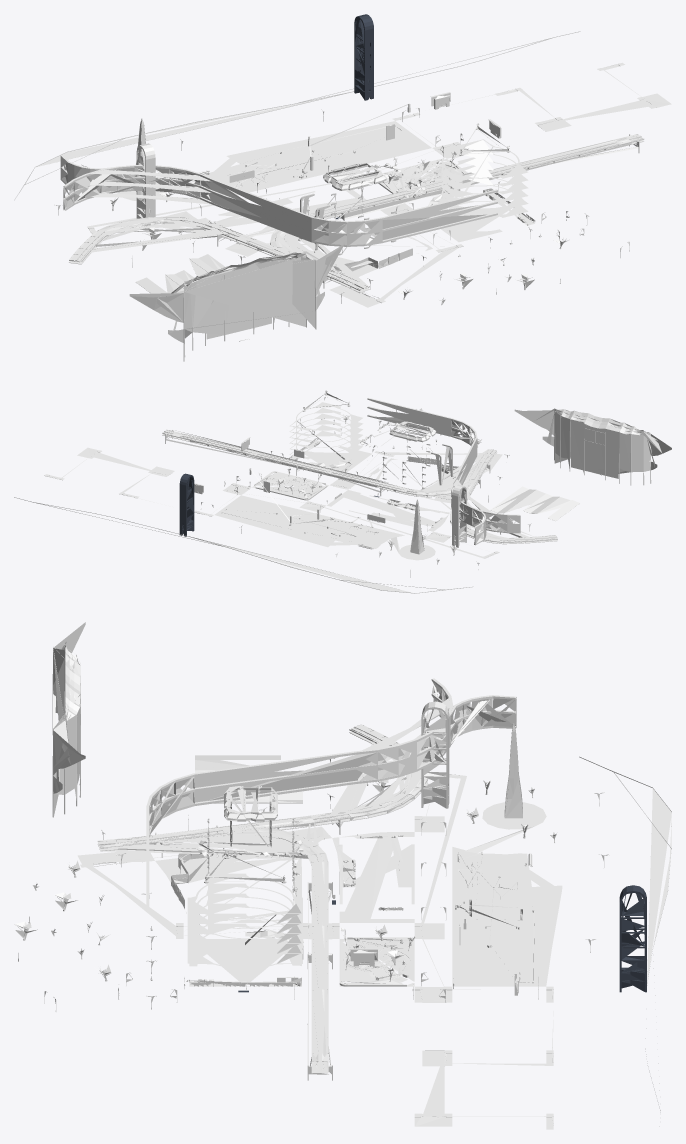
File: street_island2_05.glb
3 renders of one model, top to bottom at view 1: azimuth 30°, elevation 25°; view 2: azimuth 150°, elevation 25°; view 3: azimuth 270°, elevation 25°, orthographic. The views are drawn at different scales.
Visible parts, largest first — view 1: seg_960, seg_424, seg_933, seg_450, seg_366, seg_399, seg_1015, seg_827, seg_788, seg_962, seg_395, seg_820 (+12 smaller); view 2: seg_933, seg_424, seg_960, seg_366, seg_399, seg_448, seg_1015, seg_450, seg_364, seg_788, seg_820, seg_428 (+14 smaller); view 3: seg_424, seg_960, seg_366, seg_399, seg_364, seg_818, seg_933, seg_428, seg_829, seg_1015, seg_962, seg_395 (+11 smaller).
Part boxes in pixels (left/top/right/bottom): seg_960: left=60, top=155, right=497, bottom=246; seg_424: left=117, top=121, right=431, bottom=200; seg_933: left=129, top=242, right=344, bottom=342; seg_450: left=183, top=255, right=316, bottom=361; seg_366: left=441, top=139, right=534, bottom=242; seg_399: left=87, top=62, right=671, bottom=234; seg_1015: left=14, top=31, right=580, bottom=200; seg_827: left=69, top=217, right=232, bottom=264; seg_788: left=307, top=134, right=644, bottom=217; seg_962: left=354, top=14, right=373, bottom=100; seg_395: left=225, top=203, right=463, bottom=307; seg_820: left=309, top=134, right=643, bottom=219; seg_933: left=514, top=408, right=671, bottom=478; seg_424: left=214, top=495, right=435, bottom=560; seg_960: left=367, top=398, right=520, bottom=545; seg_366: left=289, top=402, right=371, bottom=472; seg_399: left=44, top=447, right=499, bottom=558; seg_448: left=490, top=486, right=579, bottom=521; seg_1015: left=14, top=497, right=473, bottom=593; seg_450: left=554, top=410, right=651, bottom=485; seg_364: left=327, top=490, right=449, bottom=531; seg_788: left=162, top=429, right=409, bottom=492; seg_820: left=162, top=430, right=409, bottom=494; seg_428: left=254, top=471, right=327, bottom=500; seg_424: left=452, top=808, right=562, bottom=986; seg_960: left=146, top=678, right=516, bottom=909; seg_366: left=187, top=873, right=302, bottom=986; seg_399: left=414, top=771, right=553, bottom=1129; seg_364: left=332, top=832, right=414, bottom=922; seg_818: left=97, top=813, right=332, bottom=862; seg_933: left=53, top=622, right=85, bottom=794; seg_428: left=339, top=937, right=414, bottom=986; seg_829: left=97, top=814, right=333, bottom=865; seg_1015: left=579, top=756, right=671, bottom=1126; seg_962: left=619, top=885, right=646, bottom=992; seg_395: left=77, top=826, right=339, bottom=939.
Bounding box in the file's own units: 529 × 61.45 × 350.
